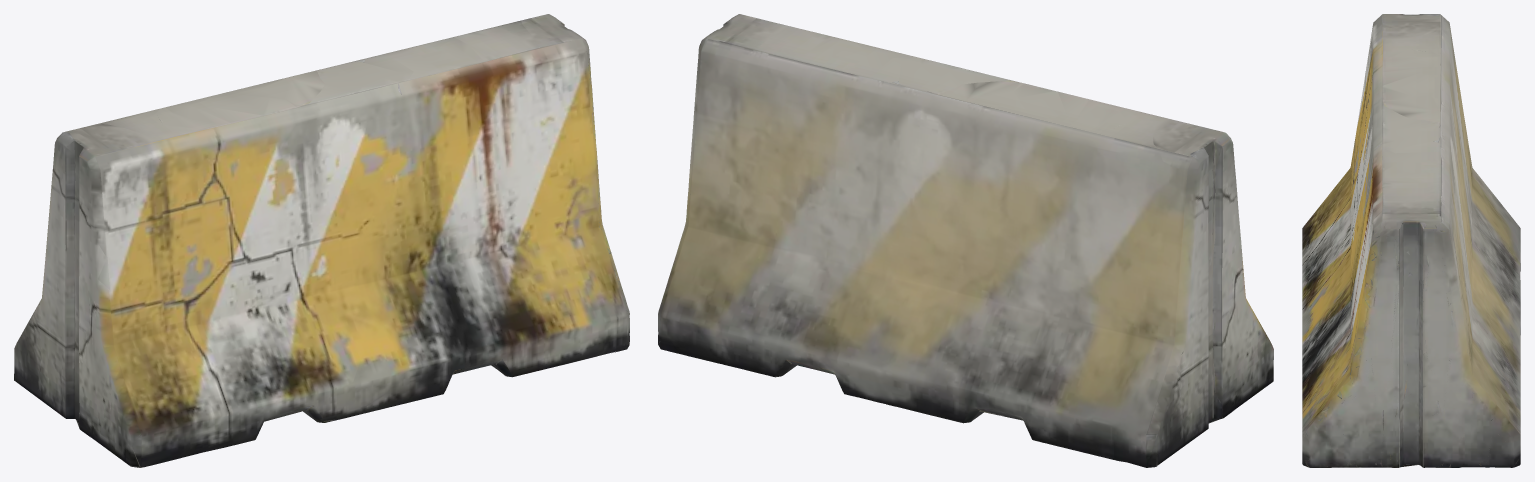
The model's file is prop-barrier.glb.
The picture shows the model from 3 angles, left to right: view 1: azimuth 30°, elevation 25°; view 2: azimuth 150°, elevation 25°; view 3: azimuth 270°, elevation 25°; orthographic projection. The views are drawn at different scales.
Parts seen in each view (by area): view 1: Mesh_0; view 2: Mesh_0; view 3: Mesh_0.
Part boxes in pixels (x1,y1,x2,y2): Mesh_0: (14, 14, 629, 467); Mesh_0: (658, 14, 1273, 467); Mesh_0: (1302, 14, 1520, 467).
Bounding box in the file's own units: 1.91 × 1.02 × 0.8266.
1 material, 1 textured.
